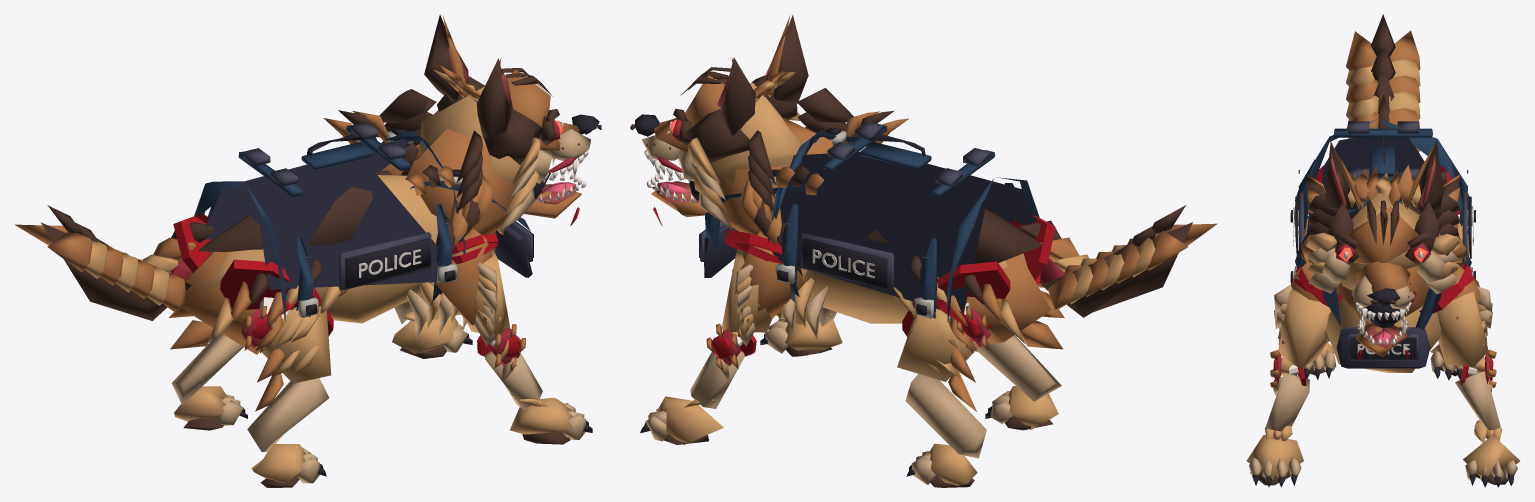
Rendered from inf.dog-k9.lod1.glb.
3 views of the same model, side by side, from view 1: azimuth 30°, elevation 25°; view 2: azimuth 150°, elevation 25°; view 3: azimuth 270°, elevation 25° (orthographic). The views are drawn at different scales.
Visible parts, largest first — view 1: body, head, neck, tail, hip, torso, armR, legR, shinR, pawFR, legBR, foreArmR (+9 smaller); view 2: body, head, neck, tail, hip, torso, shinL, armL, legBL, shinR, pawFL, foreArmL (+10 smaller); view 3: head, body, tail, torso, neck, legFR, legFL, pawFR, foreArmR, pawFL, foreArmL, jaw (+7 smaller).
Part boxes in pixels (x1,y1,x2,y2): body: [194, 122, 495, 323]; head: [419, 14, 601, 231]; neck: [323, 89, 515, 249]; tail: [15, 205, 191, 320]; hip: [142, 222, 348, 354]; torso: [360, 128, 533, 340]; armR: [434, 228, 501, 346]; legR: [241, 306, 320, 411]; shinR: [247, 378, 329, 452]; pawFR: [510, 397, 592, 444]; legBR: [256, 306, 331, 383]; foreArmR: [485, 324, 542, 409]; body: [767, 121, 1043, 323]; head: [630, 15, 808, 230]; neck: [715, 88, 908, 277]; tail: [1041, 205, 1217, 317]; hip: [893, 220, 1089, 344]; torso: [699, 128, 874, 339]; shinL: [905, 374, 986, 458]; armL: [729, 231, 804, 346]; legBL: [897, 308, 978, 381]; shinR: [976, 335, 1061, 401]; pawFL: [640, 396, 723, 444]; foreArmL: [690, 323, 744, 408]; head: [1306, 140, 1460, 328]; body: [1290, 119, 1475, 323]; tail: [1346, 14, 1420, 151]; torso: [1322, 287, 1441, 372]; neck: [1300, 174, 1466, 323]; legFR: [1278, 289, 1330, 368]; legFL: [1437, 291, 1488, 367]; pawFR: [1246, 434, 1303, 487]; foreArmR: [1265, 350, 1309, 431]; pawFL: [1463, 435, 1519, 487]; foreArmL: [1455, 349, 1500, 430]; jaw: [1356, 316, 1410, 361].
Size of the model in its own units: 1.47 by 0.9 by 0.6809.
